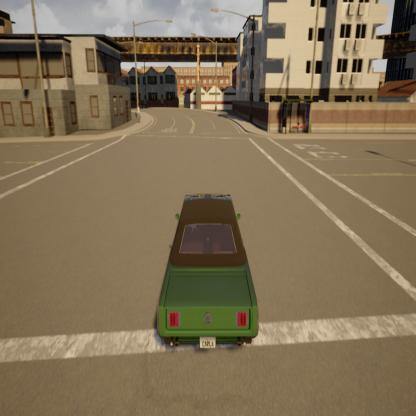Cars: (146, 170, 267, 370)
Pedestrian: (136, 102, 141, 123)
